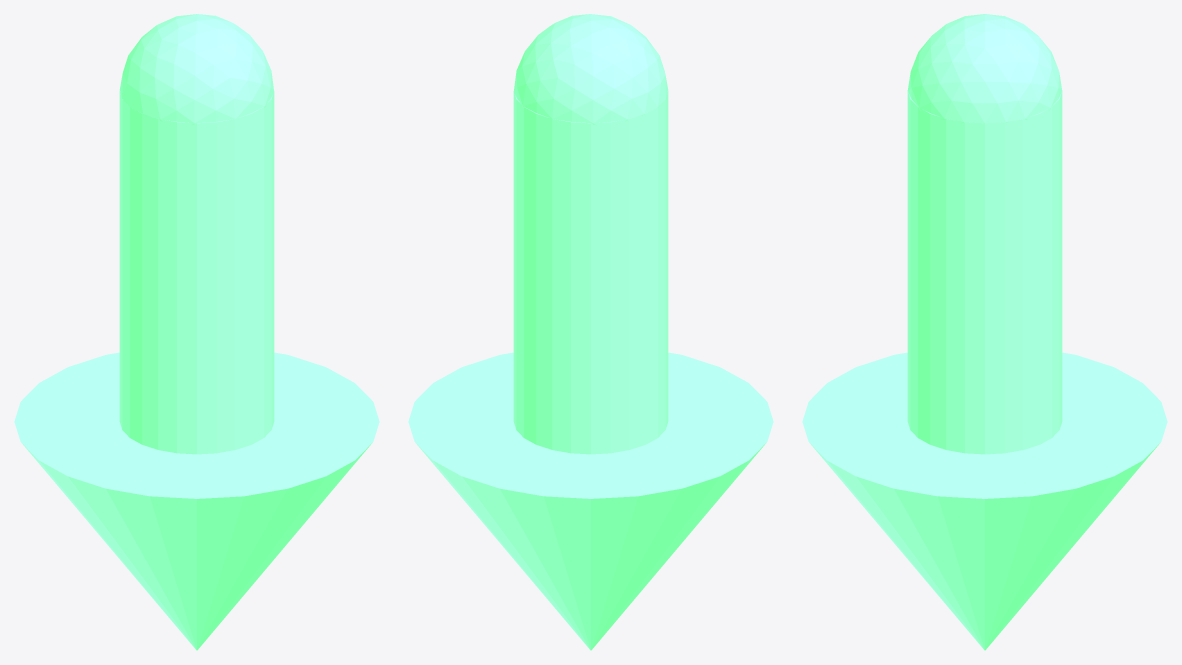
File: Fleche.glb
3 views of the same model, side by side, from view 1: azimuth 30°, elevation 25°; view 2: azimuth 150°, elevation 25°; view 3: azimuth 270°, elevation 25° (orthographic).
Visible parts, largest first — view 1: geometry_0; view 2: geometry_0; view 3: geometry_0.
Part boxes in pixels (<box>): geometry_0: <box>14,14,379,650</box>; geometry_0: <box>408,14,773,650</box>; geometry_0: <box>802,14,1167,650</box>.
Size of the model in its own units: 0.26 by 0.495 by 0.26.
